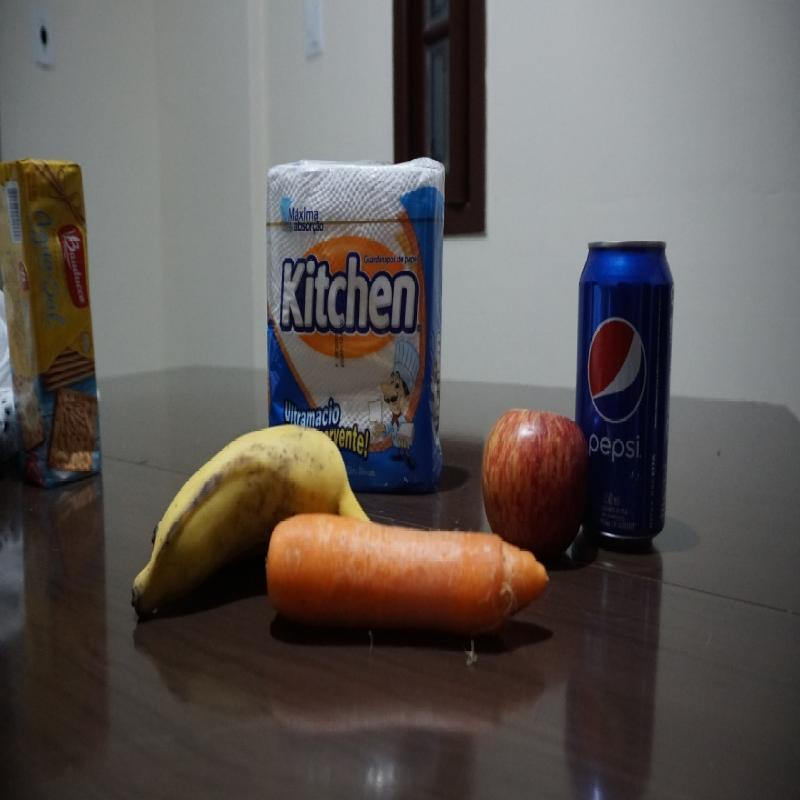Apple: (479, 406, 592, 558)
Banana: (131, 424, 379, 633)
Carrot: (263, 503, 550, 636)
Cracker: (0, 153, 104, 494)
Napkin: (264, 151, 449, 492)
Soda can: (576, 236, 676, 552)
